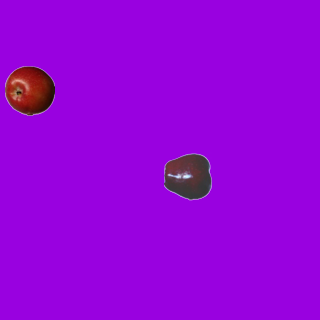Apple Braeburn: (4, 65, 54, 115)
Apple Red Delicious: (163, 151, 213, 201)
